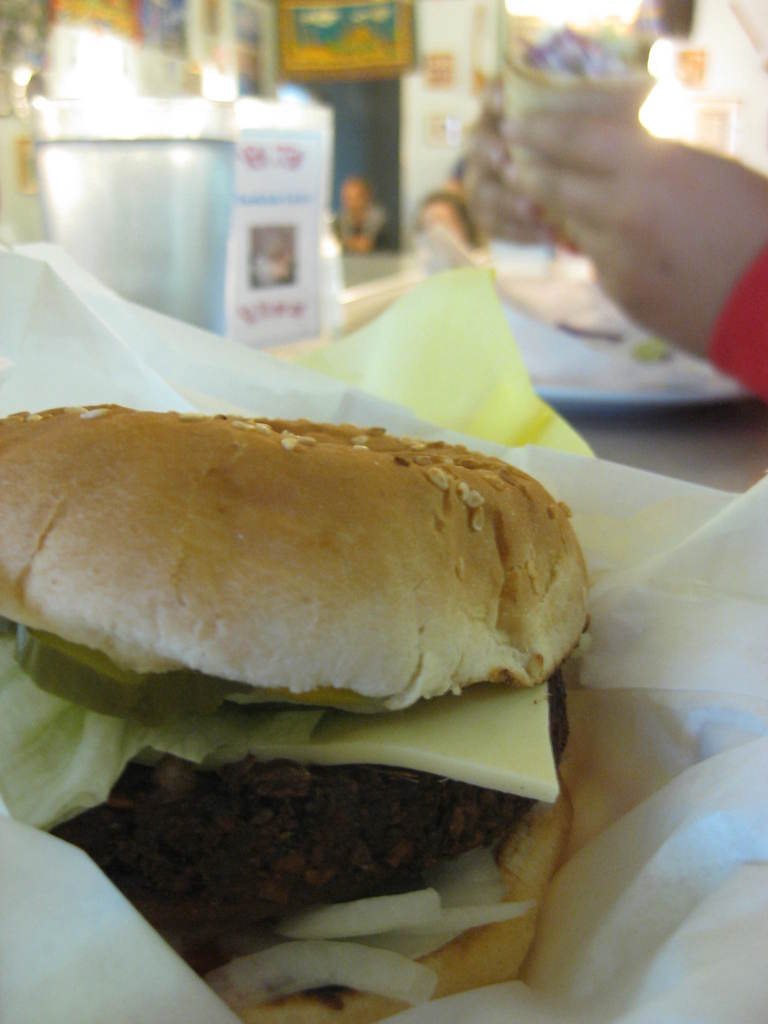Hamburger: (0, 406, 595, 1023)
